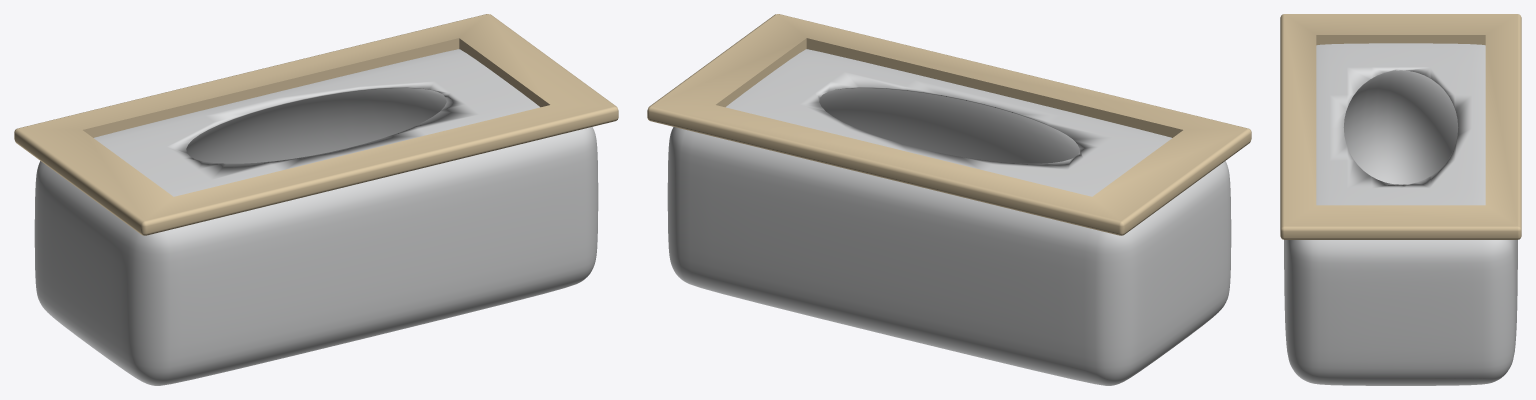
The model's file is bathtub.glb.
3 views of the same model, side by side, from view 1: azimuth 30°, elevation 25°; view 2: azimuth 150°, elevation 25°; view 3: azimuth 270°, elevation 25° (orthographic). The views are drawn at different scales.
Parts seen in each view (by area): view 1: shell; view 2: shell; view 3: shell.
Boxes of the visible parts, <box> form: shell: <box>14,14,618,385</box>; shell: <box>647,14,1251,385</box>; shell: <box>1280,14,1521,385</box>.
Bounding box in the file's own units: 1.52 × 0.5703 × 0.72.
